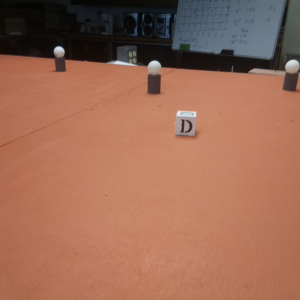obstacle: (282, 58, 299, 92), (147, 59, 162, 96), (54, 45, 65, 73)
